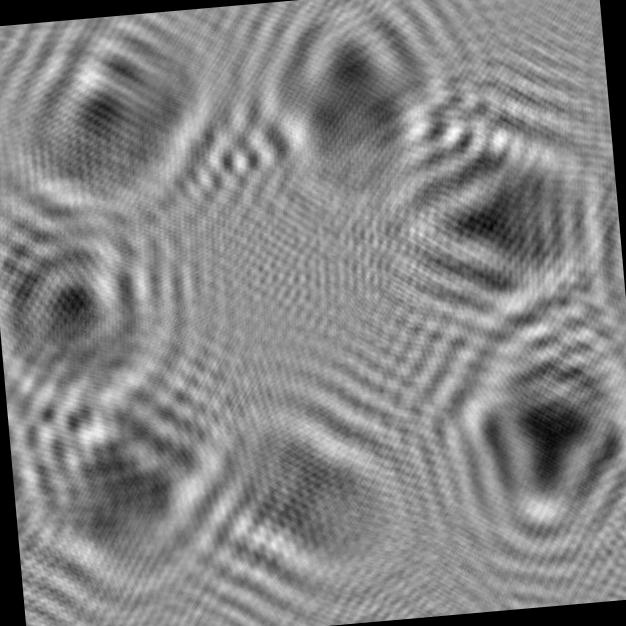A: (387, 302, 626, 582)
I: (170, 348, 456, 626)
J: (0, 169, 212, 422)
L: (0, 7, 239, 238)
T: (4, 343, 243, 617)
V: (343, 79, 626, 345)
Y: (222, 0, 493, 226)
